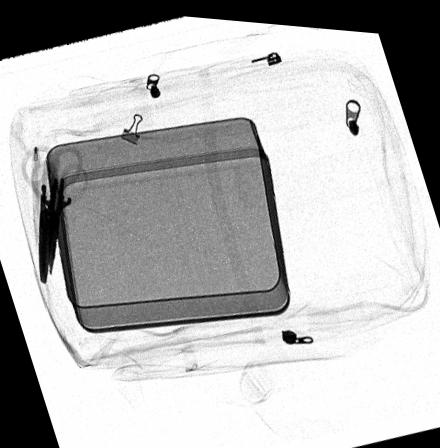Scissors: (16, 141, 89, 286), (30, 154, 89, 279)
